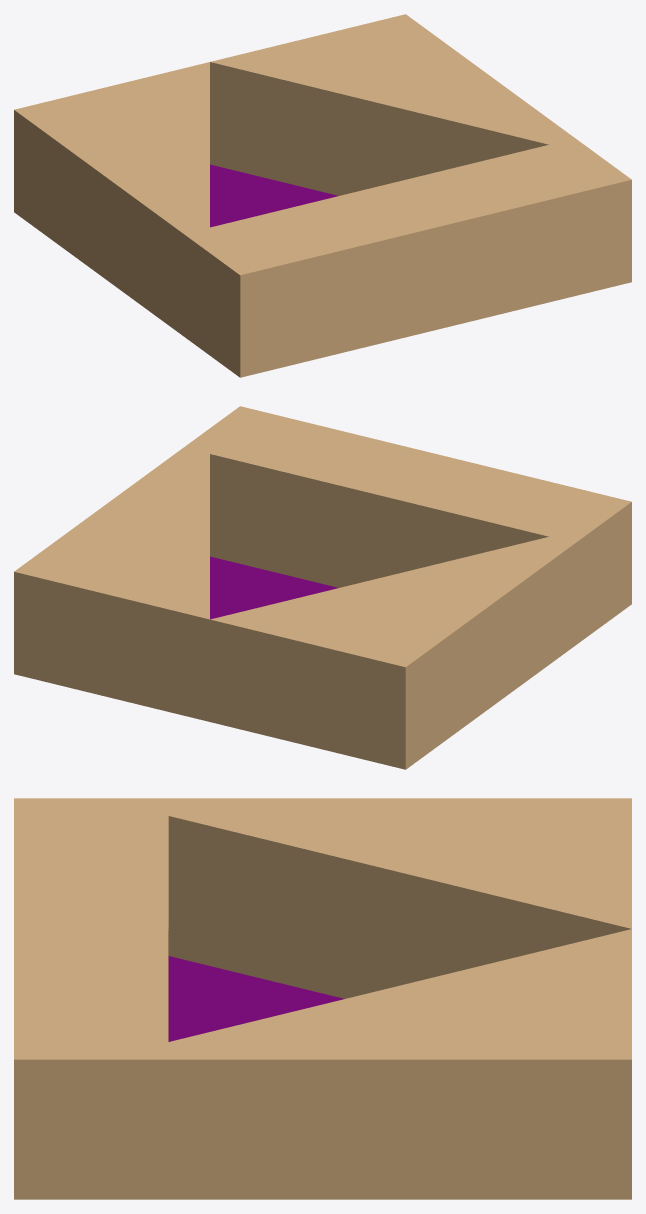
Rendered from triangle_mold_purple.gltf.
3 views of the same model, one above another, from view 1: azimuth 30°, elevation 25°; view 2: azimuth 150°, elevation 25°; view 3: azimuth 270°, elevation 25° (orthographic). The views are drawn at different scales.
Parts seen in each view (by area): view 1: Mold, Base; view 2: Mold, Base; view 3: Mold, Base.
Boxes of the visible parts, x1,y1,x2,y2 form: Mold: (14, 14, 631, 377); Base: (210, 164, 337, 227); Mold: (14, 406, 631, 769); Base: (210, 556, 337, 619); Mold: (14, 798, 631, 1199); Base: (168, 956, 343, 1041).
Size of the model in its own units: 0.2 by 0.05 by 0.2.
